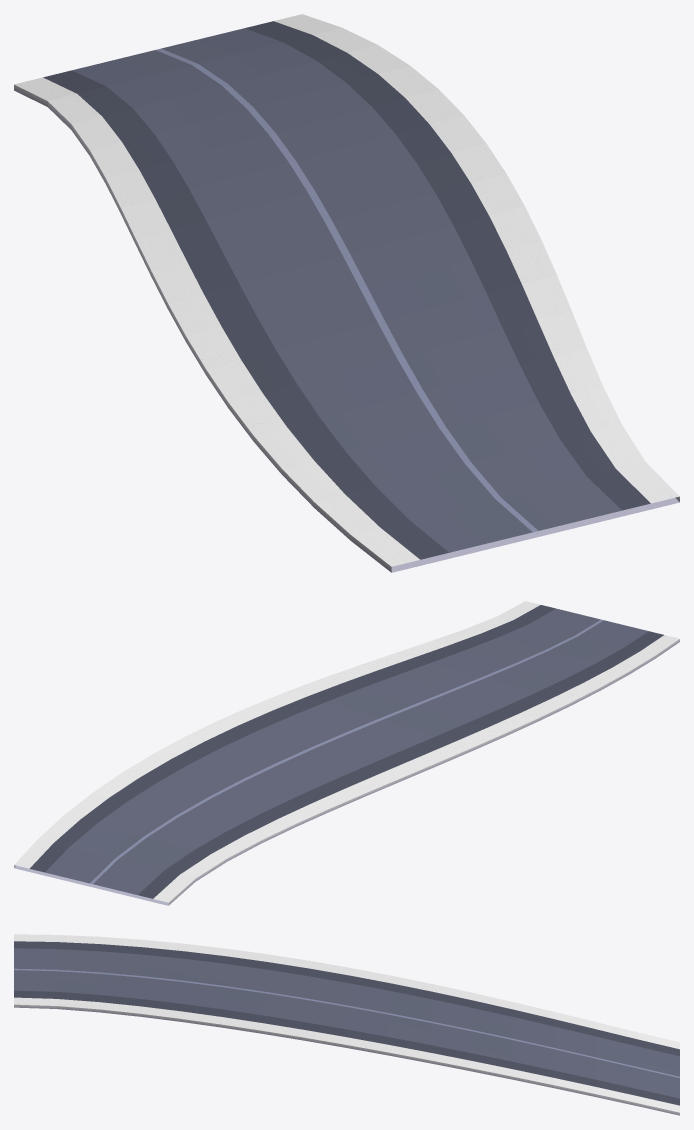
Rendered from road-Chicane-Flat-BiSlopeDown-Down1-Right1-Size4.glb.
3 views of the same model, one above another, from view 1: azimuth 30°, elevation 25°; view 2: azimuth 150°, elevation 25°; view 3: azimuth 270°, elevation 25° (orthographic). The views are drawn at different scales.
Visible parts, largest first — view 1: road-Chicane-Flat-BiSlopeDown-Down1-Right1-Size4; view 2: road-Chicane-Flat-BiSlopeDown-Down1-Right1-Size4; view 3: road-Chicane-Flat-BiSlopeDown-Down1-Right1-Size4.
Boxes of the visible parts, <box> form: road-Chicane-Flat-BiSlopeDown-Down1-Right1-Size4: <box>14,14,679,572</box>; road-Chicane-Flat-BiSlopeDown-Down1-Right1-Size4: <box>14,601,679,905</box>; road-Chicane-Flat-BiSlopeDown-Down1-Right1-Size4: <box>14,934,679,1115</box>.
Size of the model in its own units: 2 by 0.2993 by 4.
Materials: 1 (1 with a texture image).
